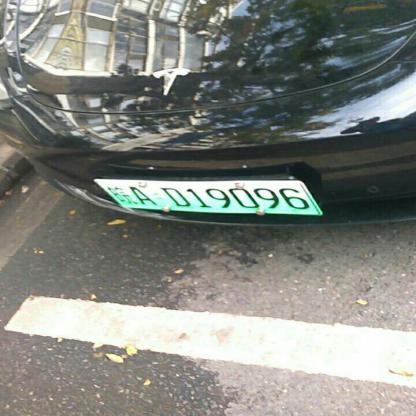lp: (92, 181, 320, 213)
